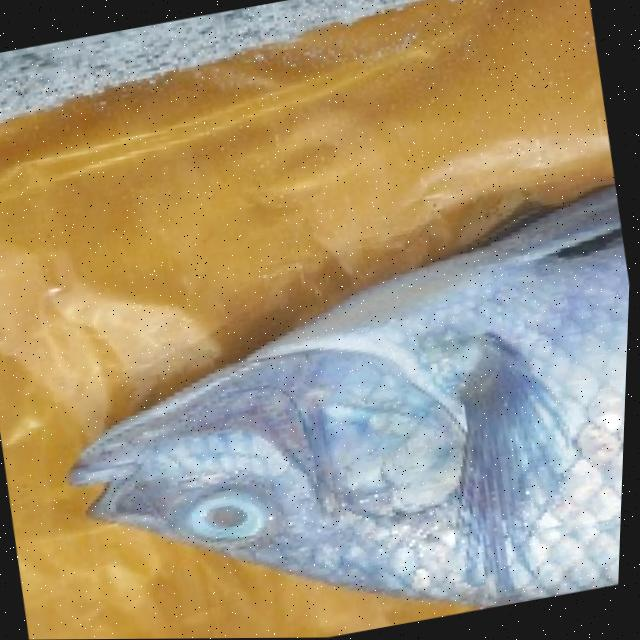Non-Fresh: (176, 468, 298, 560)
